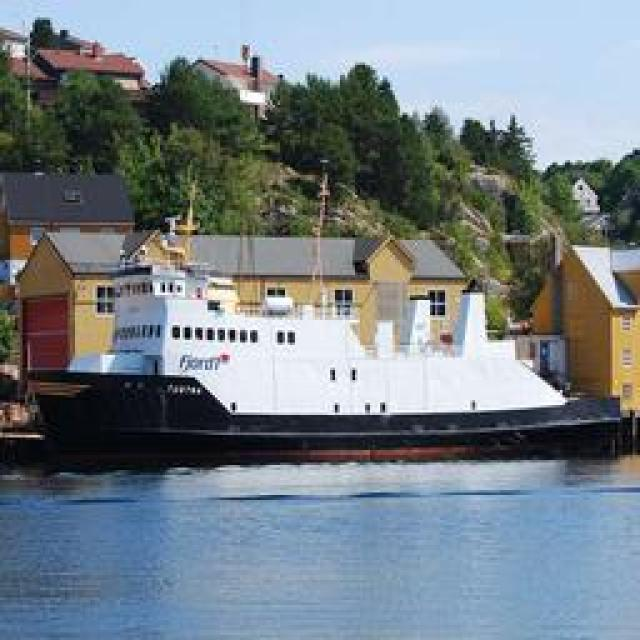CIV_Ship: (30, 204, 612, 444)
